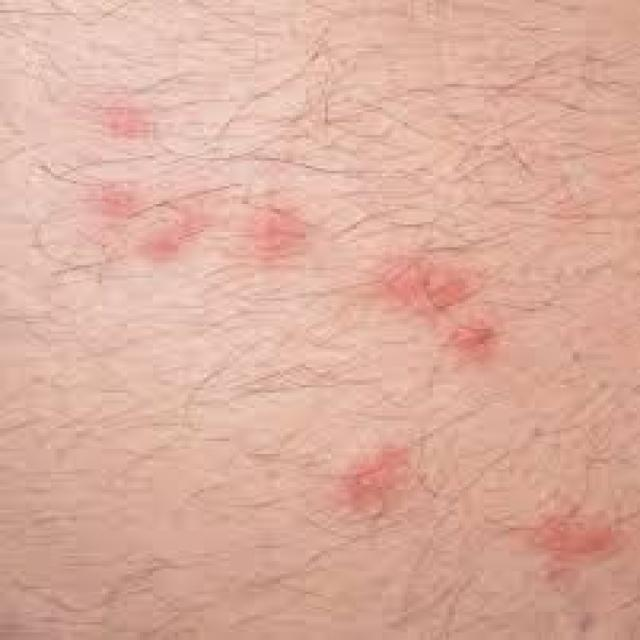kan emici bocekler: (366, 249, 525, 393), (60, 144, 199, 261), (322, 426, 423, 551), (507, 488, 637, 579), (225, 170, 321, 284)
